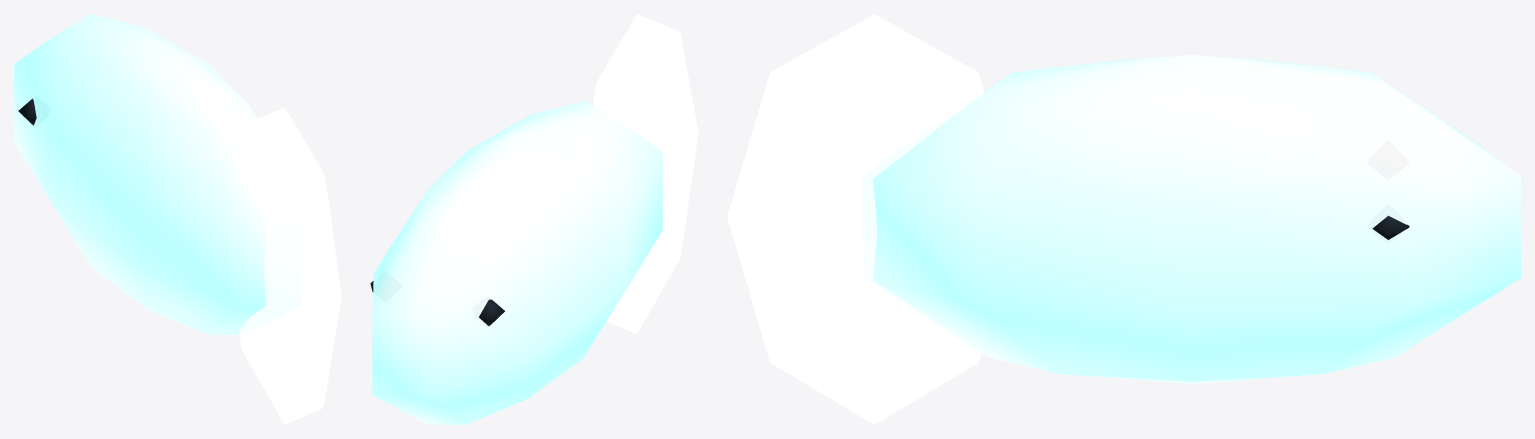
File: xy_critter_fish.glb
The picture shows the model from 3 angles, left to right: view 1: azimuth 30°, elevation 25°; view 2: azimuth 150°, elevation 25°; view 3: azimuth 270°, elevation 25°; orthographic projection. The views are drawn at different scales.
Parts seen in each view (by area): view 1: Fish; view 2: Fish; view 3: Fish.
Boxes of the visible parts, <box> form: Fish: <box>14,14,341,424</box>; Fish: <box>370,14,698,424</box>; Fish: <box>727,14,1520,424</box>.
Bounding box in the file's own units: 0.2767 × 0.6 × 1.05.
